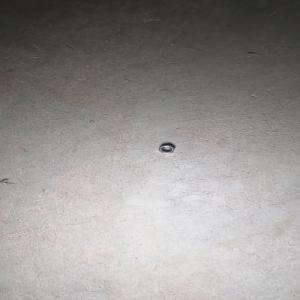Nut: (157, 144, 174, 154)
